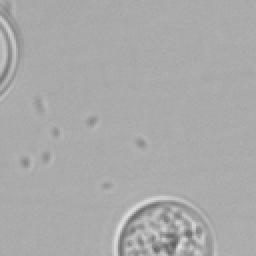picoshell: (112, 194, 216, 254), (0, 4, 20, 100)
